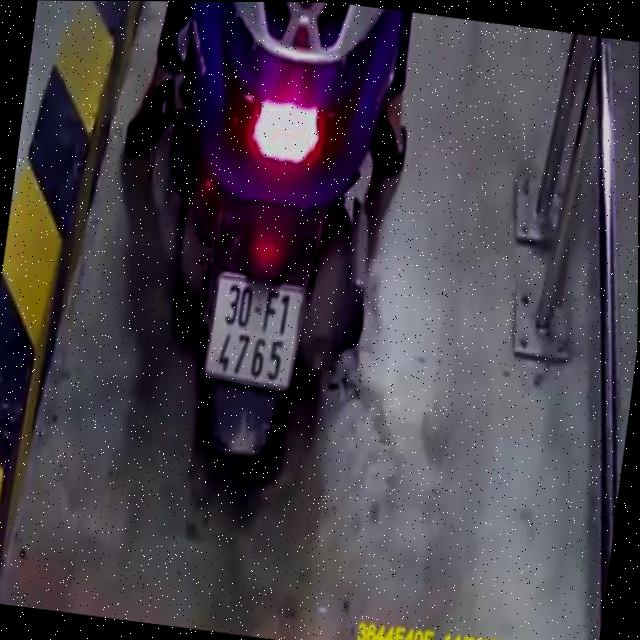motorcycle: (104, 1, 439, 511)
plate: (197, 264, 310, 397)
